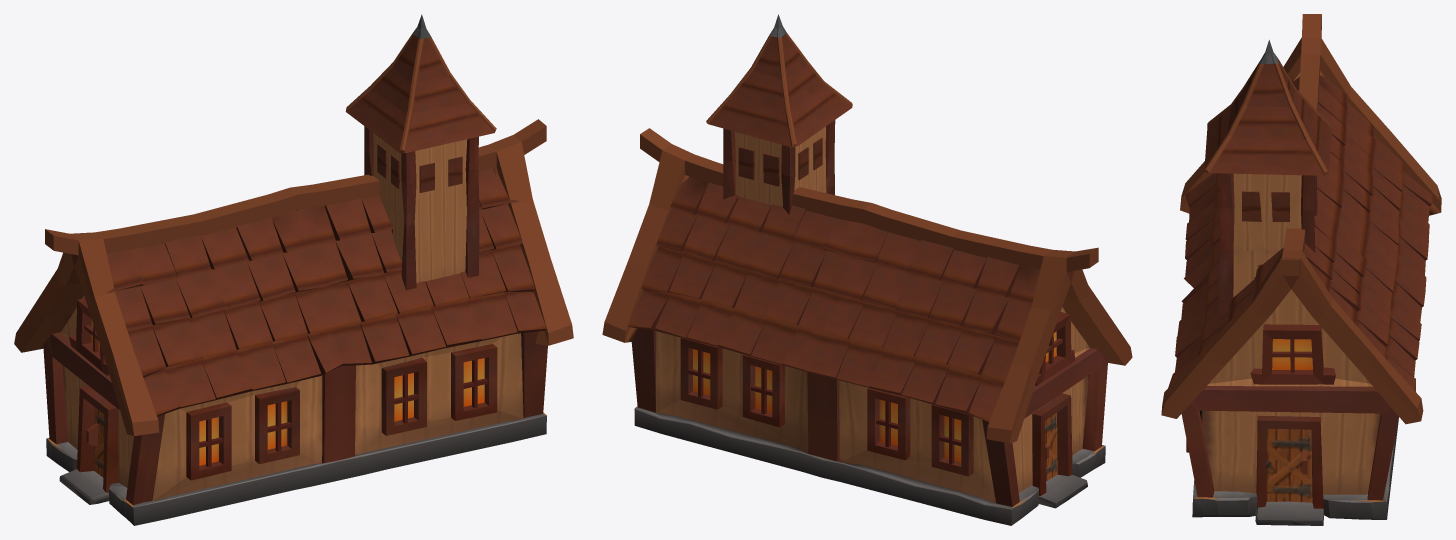
File: Barrack_Archers.fbx
3 renders of one model, left to right at view 1: azimuth 30°, elevation 25°; view 2: azimuth 150°, elevation 25°; view 3: azimuth 270°, elevation 25°, orthographic. The views are drawn at different scales.
Parts seen in each view (by area): view 1: Barrack_Archers; view 2: Barrack_Archers; view 3: Barrack_Archers.
Boxes of the visible parts, <box> form: Barrack_Archers: <box>14,14,573,525</box>; Barrack_Archers: <box>602,14,1132,525</box>; Barrack_Archers: <box>1161,14,1441,525</box>.
Size of the model in its own units: 6.1 by 5.01 by 2.93.
